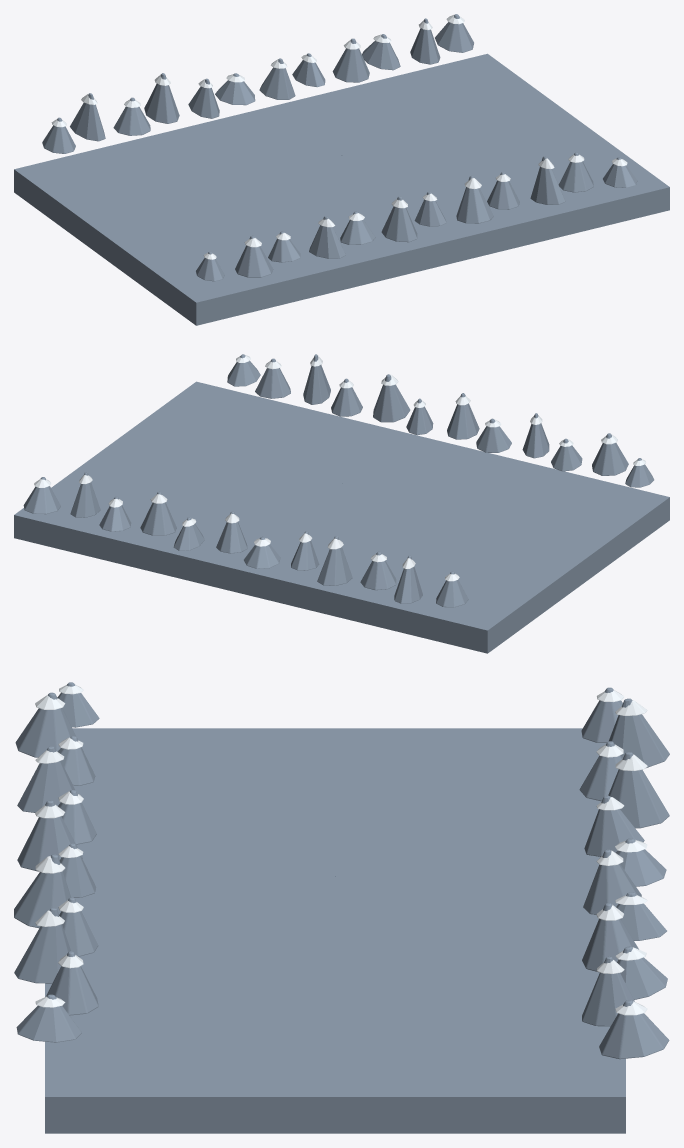
File: Titan_CanyonBackdrop.fbx
3 renders of one model, top to bottom at view 1: azimuth 30°, elevation 25°; view 2: azimuth 150°, elevation 25°; view 3: azimuth 270°, elevation 25°, orthographic. The views are drawn at different scales.
Visible parts, largest first — view 1: WorldGround, CanyonSpire_07, CanyonSpire_14, CanyonSpire_17, CanyonSpire_03, CanyonSpire_10, CanyonSpire_18, CanyonSpire_02, CanyonSpire_23, CanyonSpire_06, CanyonSpire_13, CanyonSpire_19 (+13 smaller); view 2: WorldGround, CanyonSpire_14, CanyonSpire_07, CanyonSpire_02, CanyonSpire_17, CanyonSpire_10, CanyonSpire_18, CanyonSpire_20, CanyonSpire_05, CanyonSpire_23, CanyonSpire_03, CanyonSpire_21 (+13 smaller); view 3: WorldGround, CanyonSpire_23, CanyonSpire_07, CanyonSpire_18, CanyonSpire_03, CanyonSpire_14, CanyonSpire_02, CanyonSpire_10, CanyonSpire_21, CanyonSpire_06, CanyonSpire_22, CanyonSpire_09 (+13 smaller).
Boxes of the visible parts, left/top/right/bottom form: WorldGround: left=14, top=53, right=669, bottom=325; CanyonSpire_07: left=144, top=73, right=179, bottom=123; CanyonSpire_14: left=456, top=175, right=493, bottom=223; CanyonSpire_17: left=332, top=38, right=369, bottom=82; CanyonSpire_03: left=70, top=93, right=105, bottom=141; CanyonSpire_10: left=381, top=196, right=417, bottom=242; CanyonSpire_18: left=530, top=156, right=565, bottom=204; CanyonSpire_02: left=235, top=235, right=273, bottom=277; CanyonSpire_23: left=435, top=14, right=473, bottom=52; CanyonSpire_06: left=309, top=216, right=345, bottom=258; CanyonSpire_13: left=259, top=58, right=295, bottom=99; CanyonSpire_19: left=362, top=34, right=400, bottom=70; WorldGround: left=14, top=381, right=669, bottom=653; CanyonSpire_14: left=373, top=374, right=410, bottom=422; CanyonSpire_07: left=317, top=536, right=352, bottom=585; CanyonSpire_02: left=592, top=433, right=628, bottom=475; CanyonSpire_17: left=140, top=491, right=176, bottom=535; CanyonSpire_10: left=447, top=393, right=479, bottom=439; CanyonSpire_18: left=303, top=354, right=330, bottom=404; CanyonSpire_20: left=255, top=358, right=290, bottom=398; CanyonSpire_05: left=360, top=551, right=396, bottom=590; CanyonSpire_23: left=23, top=477, right=60, bottom=514; CanyonSpire_03: left=394, top=555, right=422, bottom=603; CanyonSpire_21: left=70, top=472, right=100, bottom=517; WorldGround: left=45, top=728, right=625, bottom=1133; CanyonSpire_23: left=599, top=1000, right=669, bottom=1059; CanyonSpire_07: left=608, top=752, right=669, bottom=828; CanyonSpire_18: left=14, top=908, right=70, bottom=983; CanyonSpire_03: left=609, top=698, right=669, bottom=767; CanyonSpire_14: left=14, top=854, right=70, bottom=928; CanyonSpire_02: left=15, top=692, right=75, bottom=757; CanyonSpire_10: left=17, top=800, right=82, bottom=871; CanyonSpire_21: left=582, top=956, right=634, bottom=1026; CanyonSpire_06: left=17, top=746, right=74, bottom=812; CanyonSpire_22: left=16, top=994, right=81, bottom=1042; CanyonSpire_09: left=584, top=795, right=644, bottom=856.
Bounding box in the file's own units: 7500 × 1235 × 5644.
